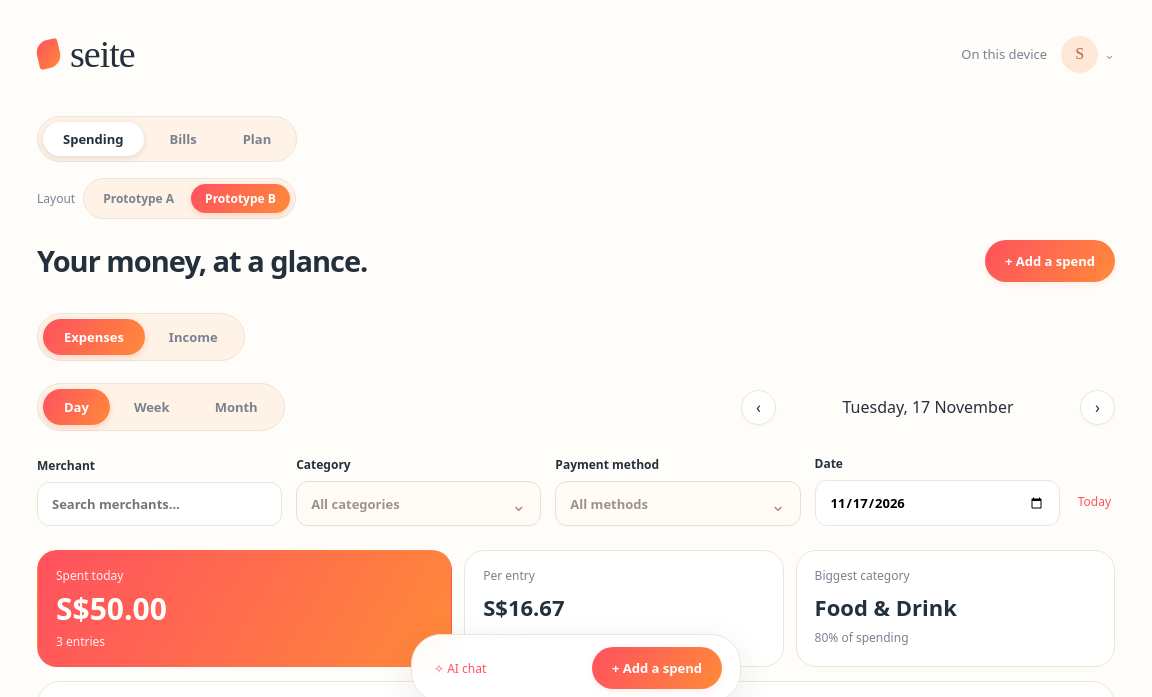
Test: Prototype B has two visuals like Prototype A › shows ranked categories beside the week comparison on Day, and day bars on Week
Check: the heading "Your money, at a glance." is shown, box [37, 241, 367, 280]
Click the button "Week" at (152, 407), box [113, 389, 191, 425]
(page scrolled)
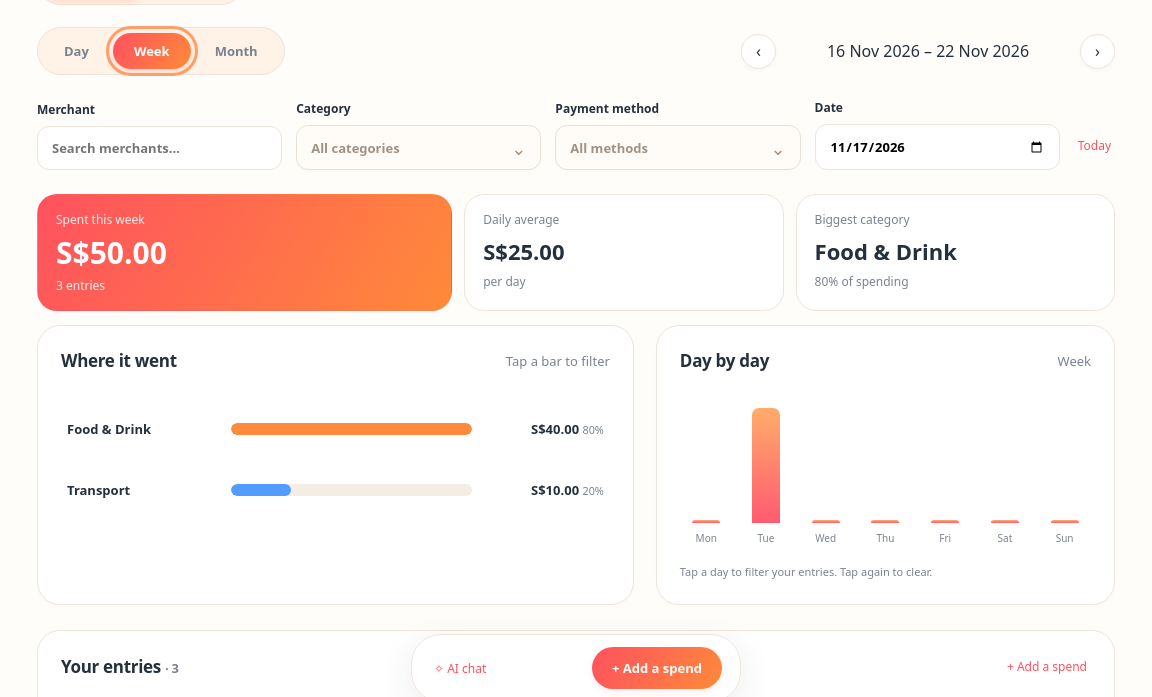
Check: the heading "Where it went" is shown, box [61, 349, 177, 372]
Check: the heading "Day by day" is shown, box [680, 349, 769, 372]
